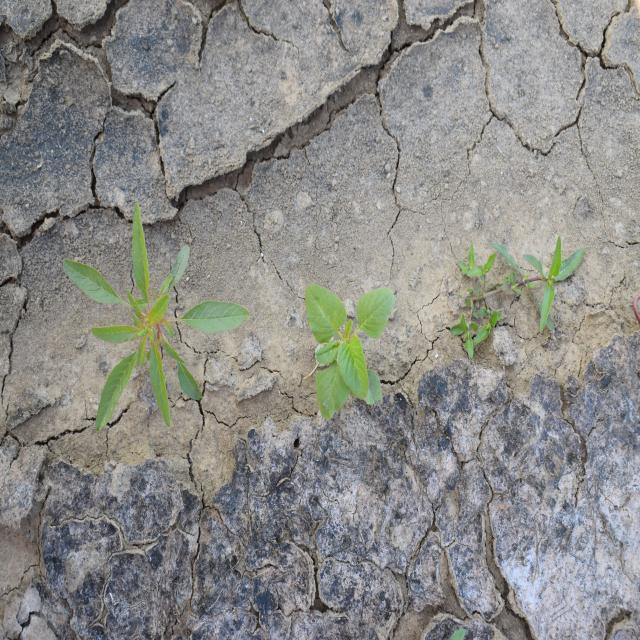Eclipta: (448, 232, 586, 361)
PalmerAmaranth: (304, 282, 396, 422)
Waterhemp: (62, 200, 250, 433)
